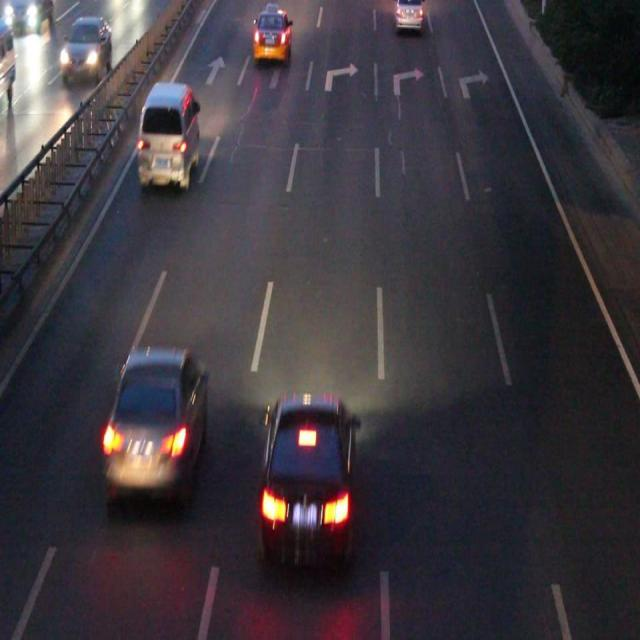car: (105, 351, 207, 502), (263, 394, 354, 562), (253, 13, 291, 59), (394, 1, 421, 30)
truck: (140, 81, 198, 186)
